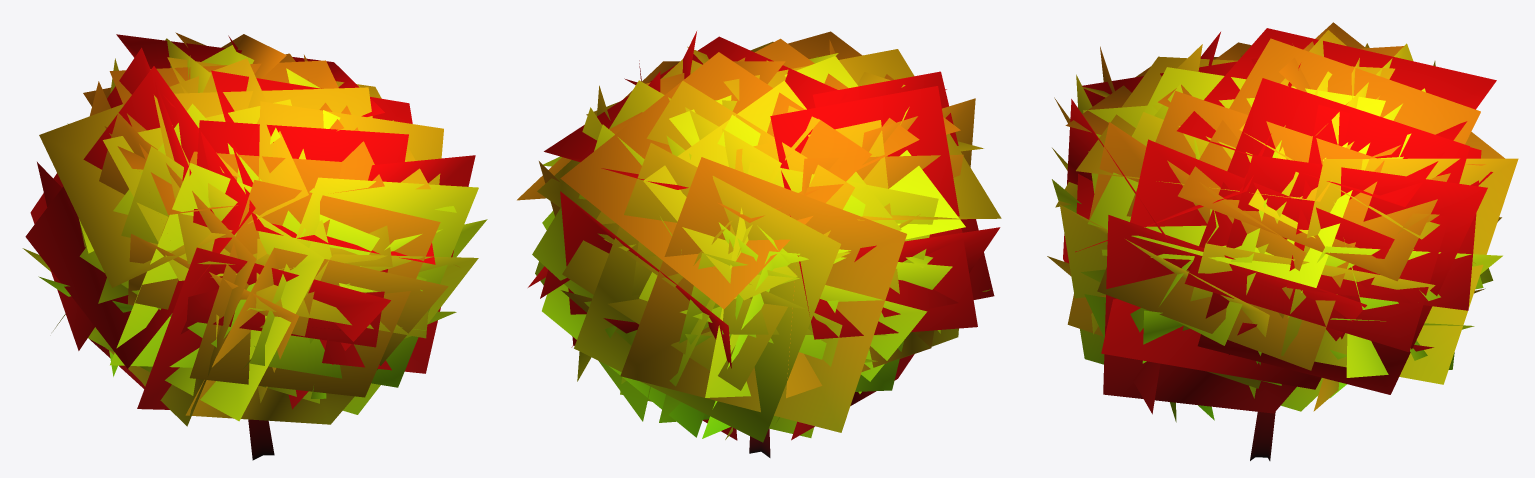
Rendered from PT_Generic_Shrub_01_green.glb.
3 views of the same model, side by side, from view 1: azimuth 30°, elevation 25°; view 2: azimuth 150°, elevation 25°; view 3: azimuth 270°, elevation 25° (orthographic). The views are drawn at different scales.
Visible parts, largest first — view 1: PT_Generic_Shrub_01_green_LOD0; view 2: PT_Generic_Shrub_01_green_LOD0; view 3: PT_Generic_Shrub_01_green_LOD0.
Part boxes in pixels (left/top/right/bottom): PT_Generic_Shrub_01_green_LOD0: left=22, top=32, right=487, bottom=460; PT_Generic_Shrub_01_green_LOD0: left=517, top=31, right=1001, bottom=457; PT_Generic_Shrub_01_green_LOD0: left=1047, top=22, right=1518, bottom=460.
Size of what is drawn, in the model's own units: 1.77 by 1.73 by 1.86.
Materials: 2 (2 with a texture image).
